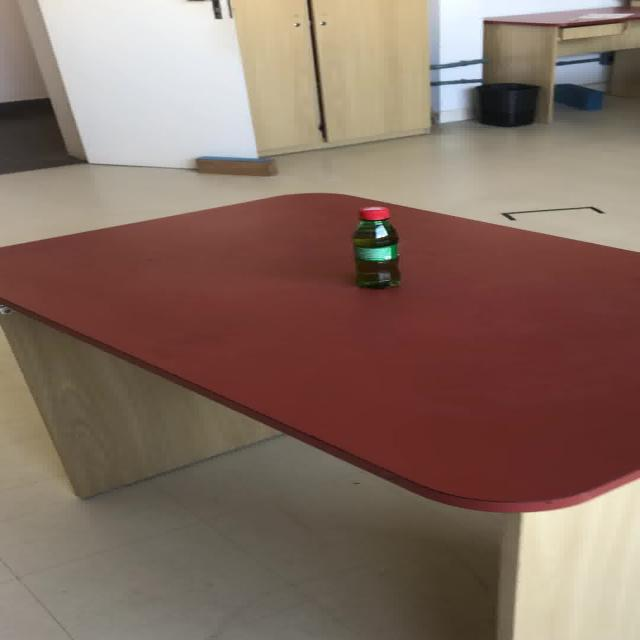guarana: (349, 205, 400, 288)
